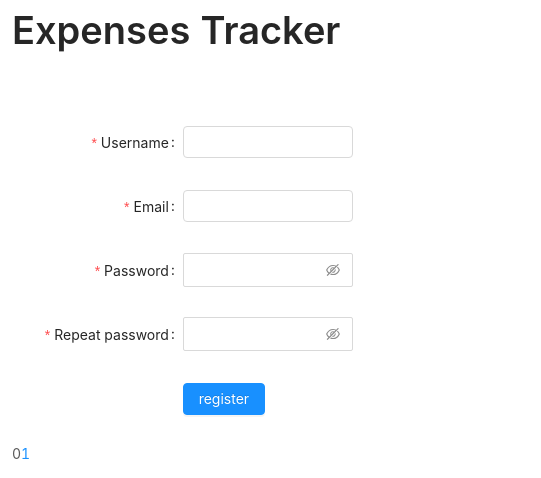
Test case: Register page › It should display error if one of the fields is missing
The width and height of the screenshot is (541, 478).
Click the button "register".
click(224, 399)  # box [183, 383, 265, 415]
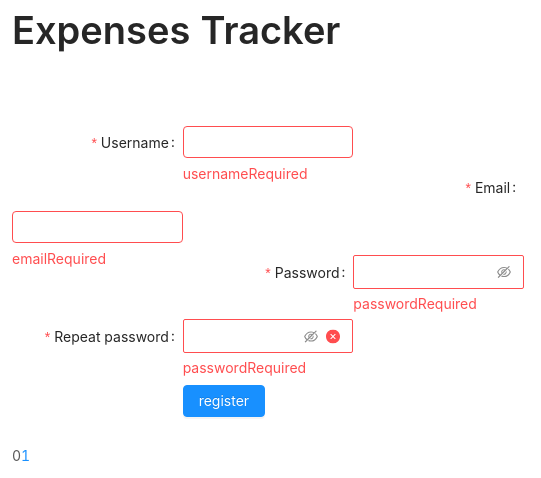
Expected: the text "usernameRequired" is shown, [183, 165, 308, 182]
Expected: the text "emailRequired" is shown, [12, 250, 106, 267]
Expected: the text "passwordRequired" is shown, [353, 295, 477, 312]
